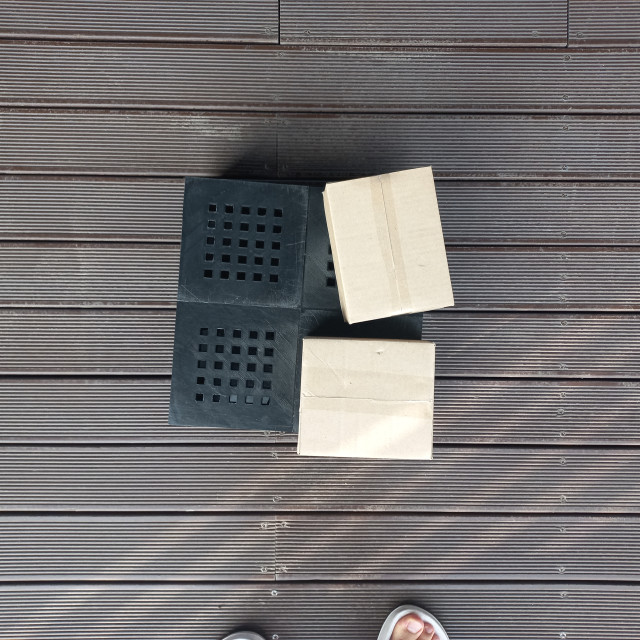box: (322, 163, 457, 326), (185, 315, 316, 476), (203, 176, 343, 305), (296, 335, 436, 461)
